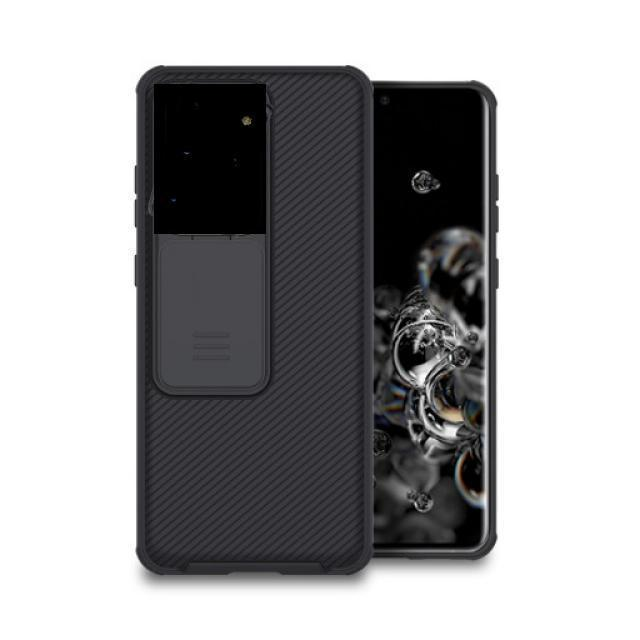lens: (155, 84, 267, 234)
phone: (123, 59, 372, 580), (371, 71, 497, 566)
